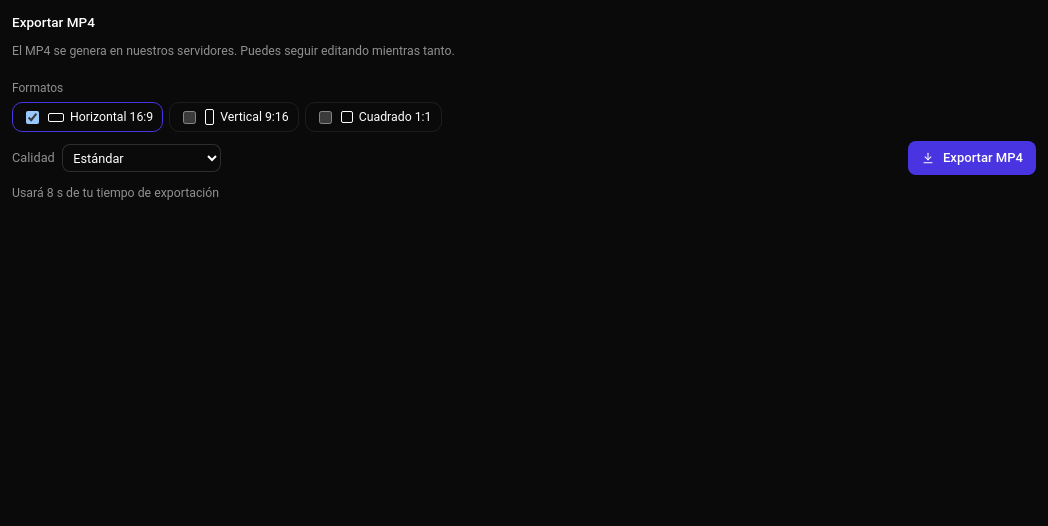
Scenario: ExportPanel: export on demand › a cut-off format is not put to the user as a choice: the assistant fixes it and it downloads when ready
Later steps or results of the test are not shown.
Click the checkbox labelled "Vertical 9:16" at point(190, 117), box x1=183 y1=111 x2=196 y2=124
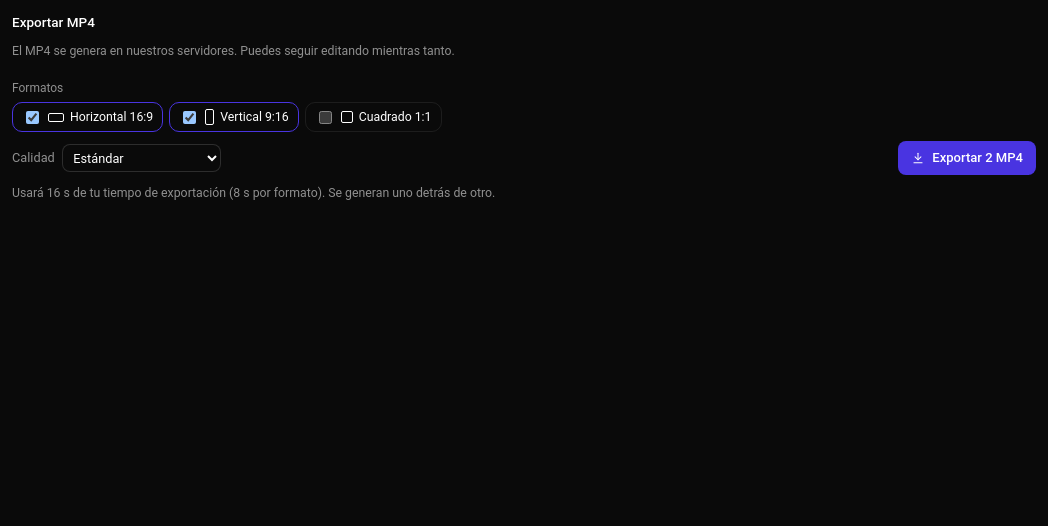
Click the button "Exportar 2 MP4" at point(967, 158), box x1=898 y1=141 x2=1036 y2=175
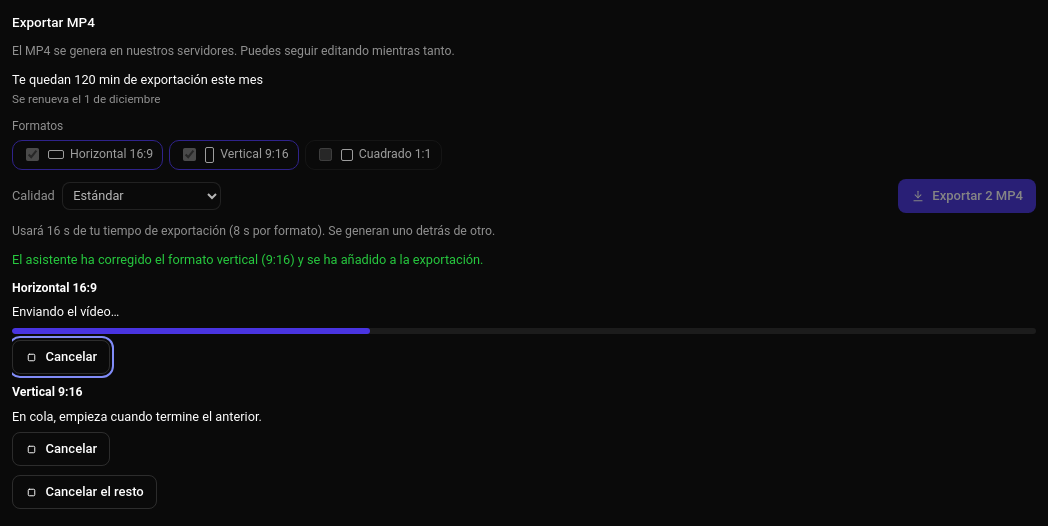
Check: the 2nd text "Horizontal 16:9" is shown, box x1=12 y1=281 x2=97 y2=295
Check: the text "El asistente ha corregido el formato vertical (9:16) y se ha añadido a la exportación." is shown, box x1=12 y1=252 x2=484 y2=267
Check: the text "En cola, empieza cuando termine el anterior." is shown, box x1=12 y1=407 x2=262 y2=426
